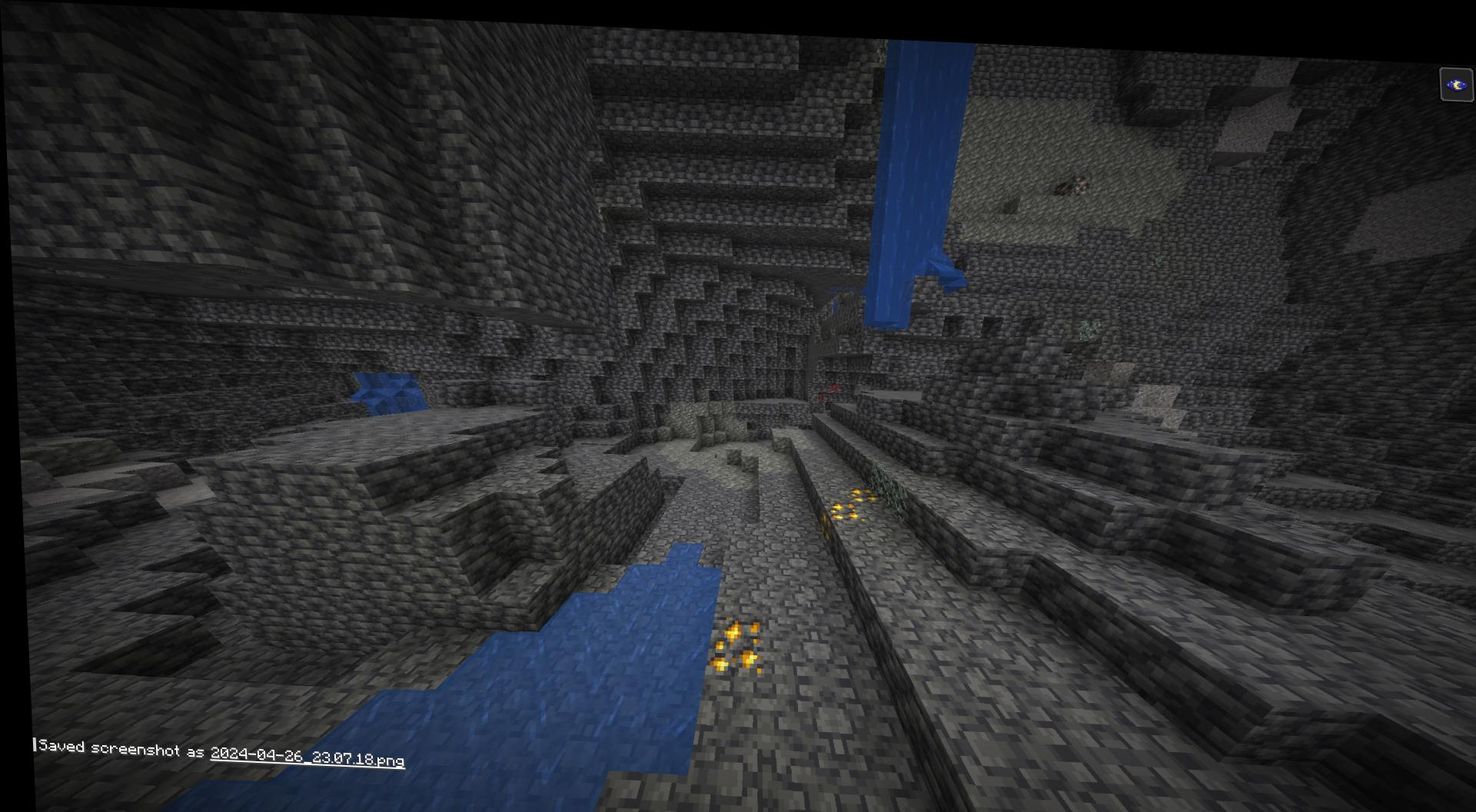gold ore: (702, 609, 758, 672), (842, 473, 873, 499), (825, 494, 854, 513)
iron ore: (1047, 161, 1099, 192)
redstone ore: (810, 371, 839, 398)
